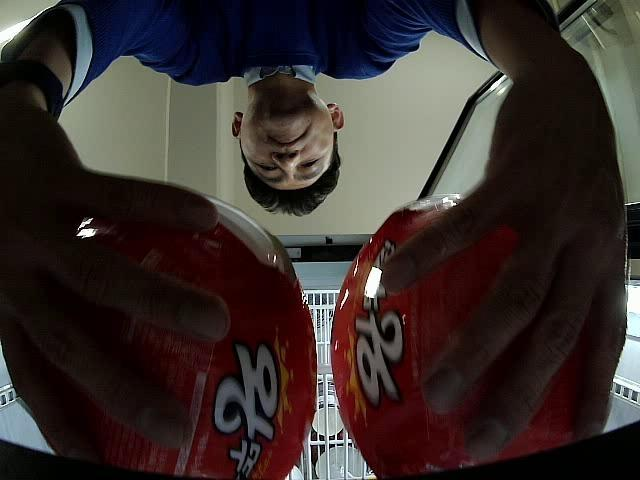10_wangTtukkeong: (330, 195, 586, 480), (75, 198, 317, 480)
